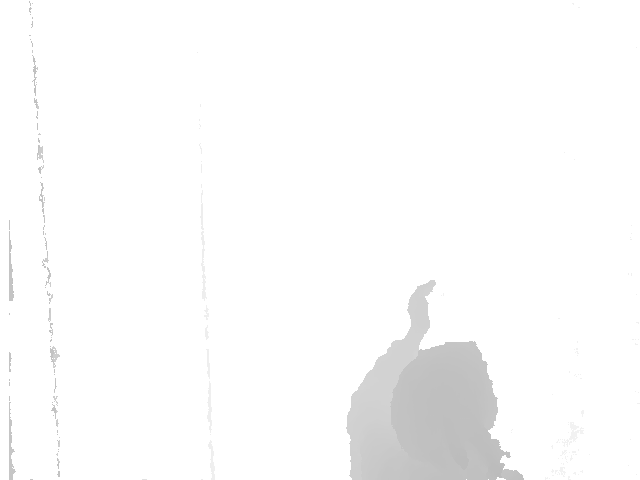hand: (404, 274, 438, 351)
head: (388, 341, 492, 460)
person: (344, 270, 526, 479)
